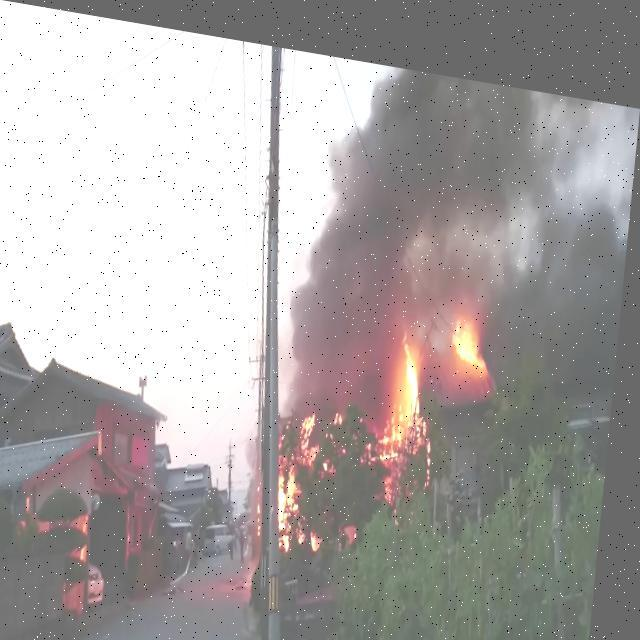Fire: (382, 318, 430, 452), (282, 454, 316, 544), (456, 306, 494, 353), (306, 400, 330, 454), (320, 520, 334, 543)
